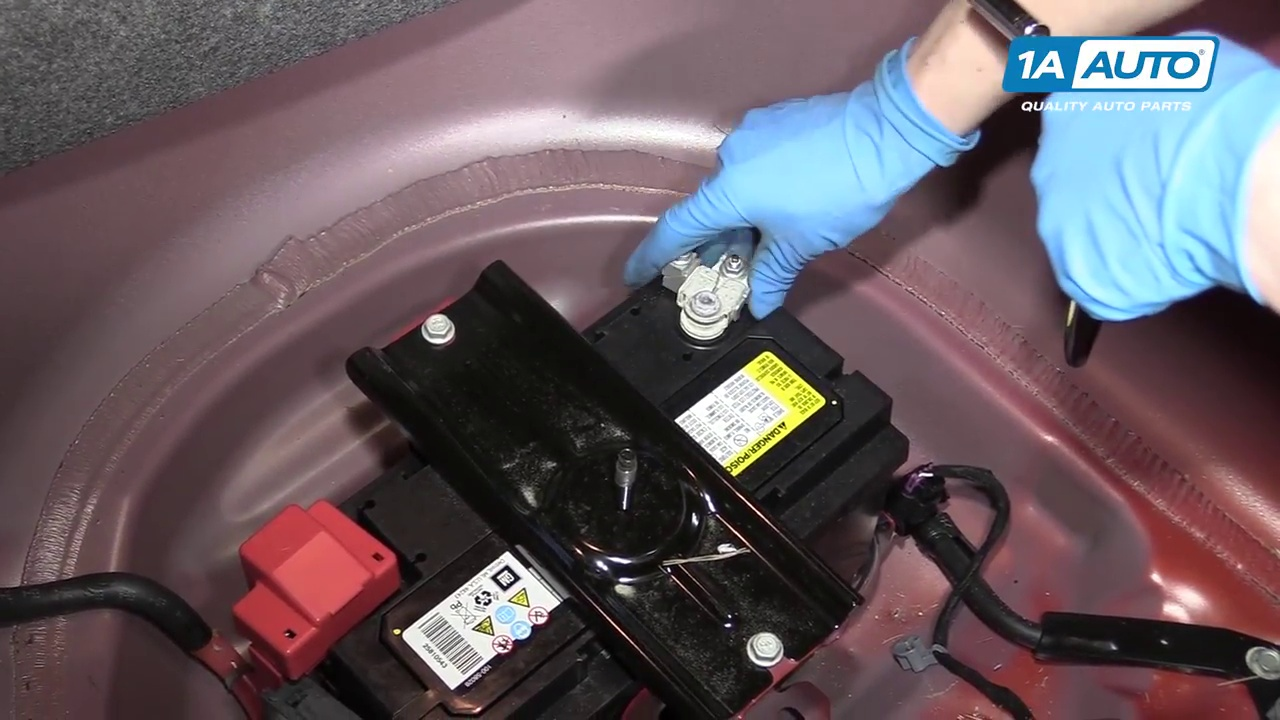battery: (242, 245, 895, 706)
neg_connected: (661, 234, 765, 343)
neg_touched: (614, 185, 825, 366)
pos_connected: (205, 469, 402, 672)
